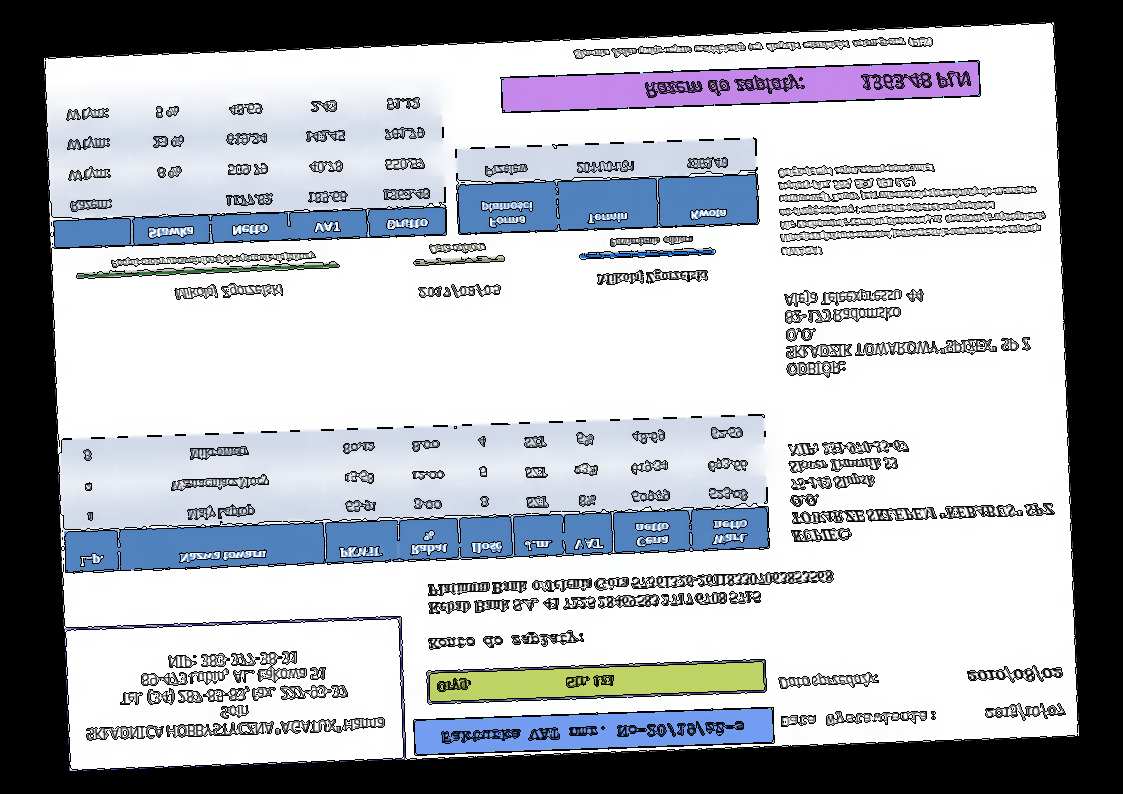Table: (59, 412, 771, 574), (46, 84, 449, 250), (453, 135, 760, 237)
TextBox: (785, 430, 1062, 547), (81, 643, 387, 744), (775, 156, 1048, 258), (781, 279, 1035, 382), (424, 568, 837, 618), (642, 66, 973, 102), (571, 34, 936, 63), (438, 717, 748, 748), (434, 670, 617, 697), (424, 628, 588, 654), (109, 251, 319, 271), (778, 705, 937, 731), (593, 266, 710, 289), (964, 661, 1065, 686), (173, 281, 287, 302), (776, 670, 880, 692), (415, 279, 502, 303), (982, 700, 1067, 724), (606, 233, 694, 250), (427, 240, 489, 257)
